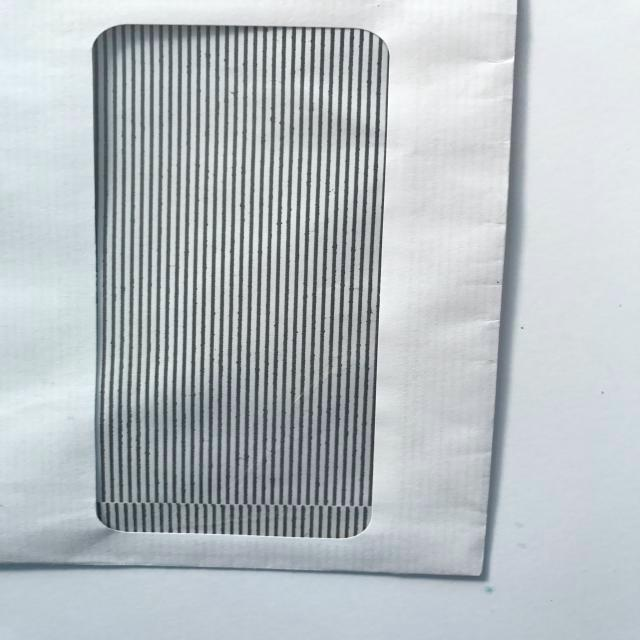paper: (0, 0, 549, 600)
